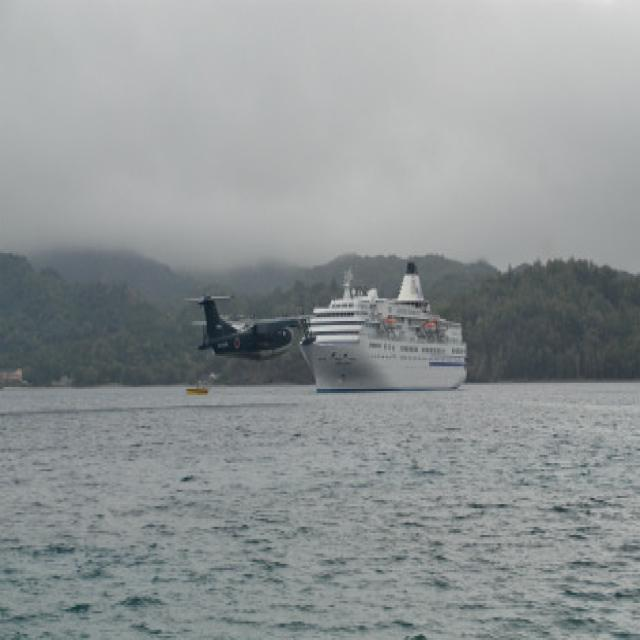MIL_Plane: (182, 292, 318, 362)
